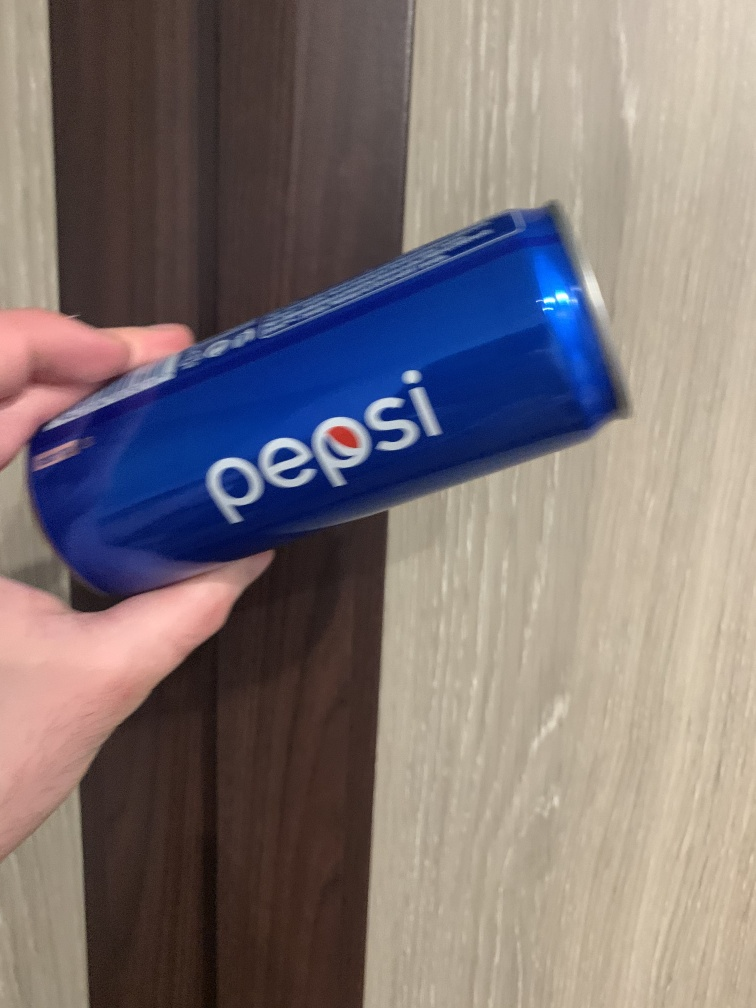pepsi: (30, 191, 636, 602)
